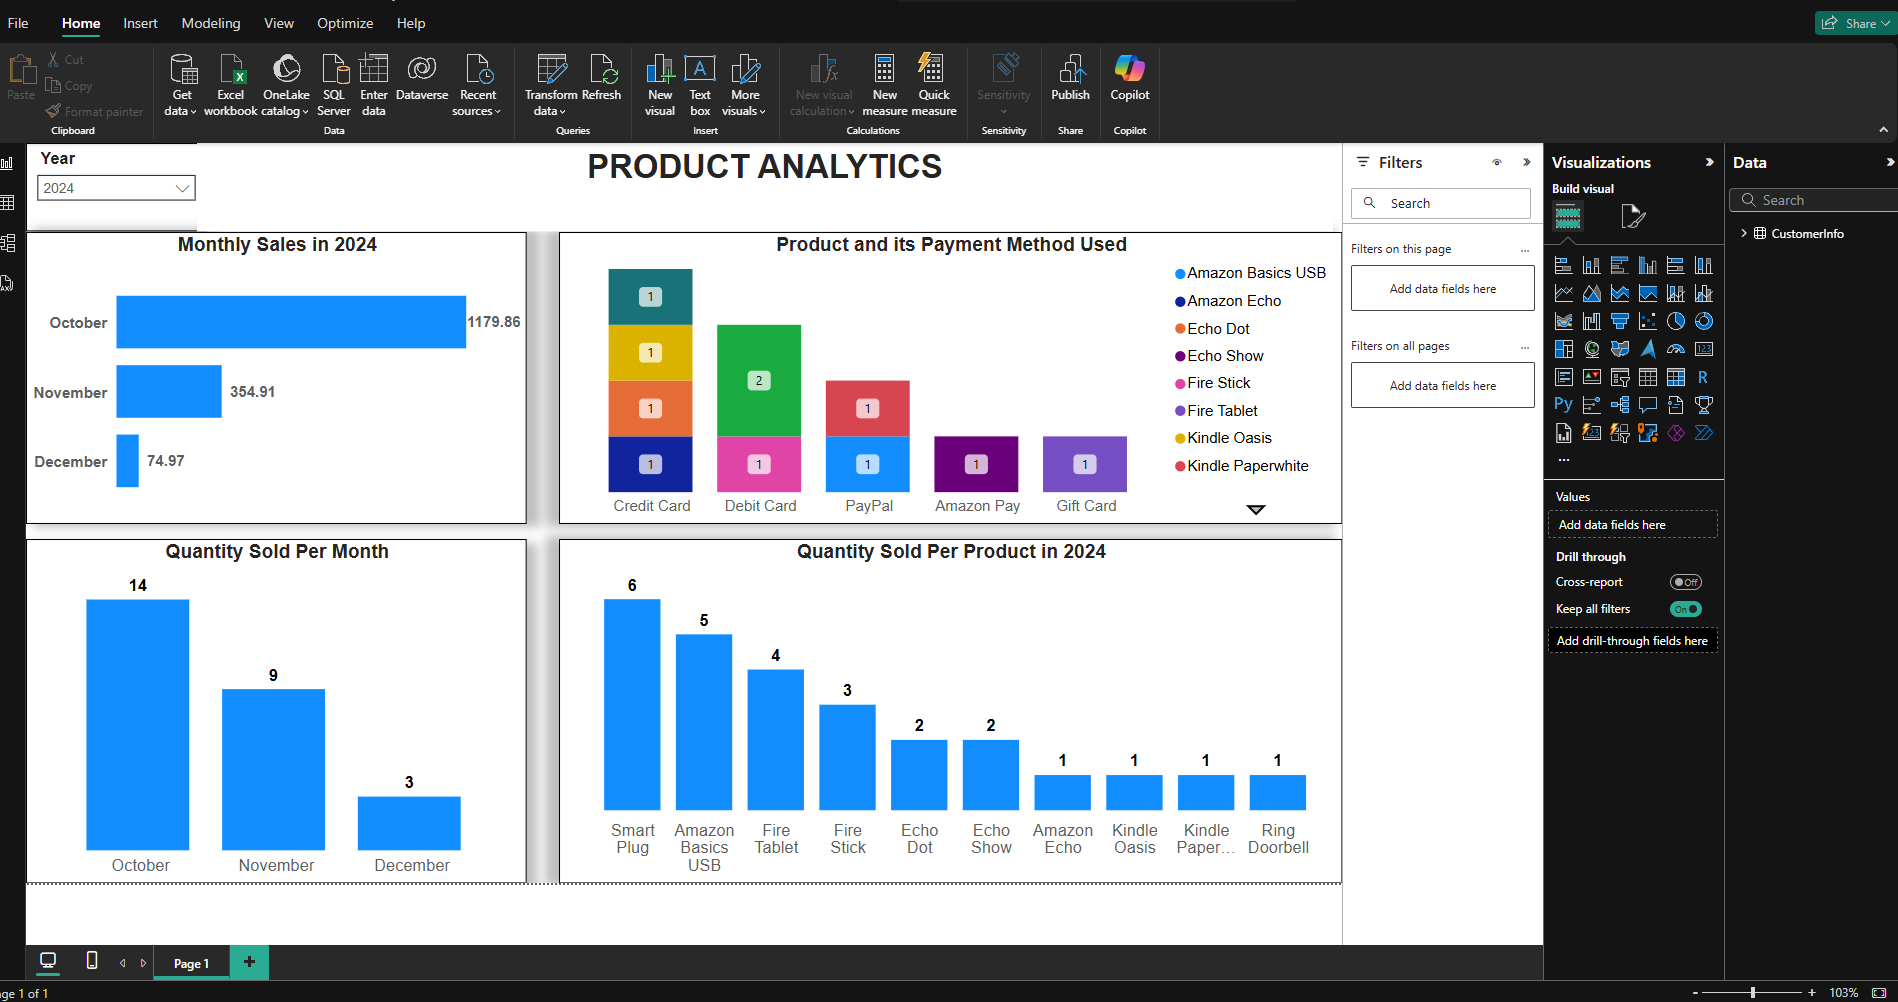

The page's visual inventory and layout, read from the dashboard file:
{"tool":"powerbi","page":{"name":"Page 1","canvas":[1280,720],"ordinal":0},"visuals":[{"type":"clusteredColumnChart","title":"Quantity Sold Per Month","fields":{"Category":["CustomerInfo.ConvertedDate.Variation.Date Hierarchy.Month"],"Y":["Sum(CustomerInfo.quantity_sold)"]},"box":[0,385.6,487.1,334.8],"z":0},{"type":"slicer","fields":{"Values":["CustomerInfo.ConvertedDate.Variation.Date Hierarchy.Year"]},"box":[0,0,175.6,86.4],"z":1000},{"type":"clusteredColumnChart","title":"Quantity Sold Per Product in 2024","fields":{"Category":["CustomerInfo.product_name"],"Y":["Sum(CustomerInfo.quantity_sold)"]},"box":[518.7,385.6,761.6,334.8],"z":2000},{"type":"lineStackedColumnComboChart","title":"Product and its Payment Method Used","fields":{"Category":["CustomerInfo.payment_method"],"Y":["CountNonNull(CustomerInfo.product_name)"],"Series":["CustomerInfo.product_name"]},"box":[518.7,86.4,761.6,284],"z":3000},{"type":"clusteredBarChart","title":"Monthly Sales in 2024","fields":{"Category":["CustomerInfo.ConvertedDate.Variation.Date Hierarchy.Month"],"Y":["Sum(CustomerInfo.sale_amount)"]},"box":[0,86.4,487.1,284],"z":3001},{"type":"textbox","box":[166,0,1104.6,86.4],"z":3002}]}

Visuals, with their boxes on the page's 1280x720 design canvas (x1, y1, x2, y2). These are canvas units, not pixel positions in the 1898x1002 screenshot, which may show the page scaled, cropped or inside an application window:
"Quantity Sold Per Month" clusteredColumnChart: (0,386,487,720)
slicer - CustomerInfo.ConvertedDate.Variation.Date Hierarchy.Year: (0,0,176,86)
"Quantity Sold Per Product in 2024" clusteredColumnChart: (519,386,1280,720)
"Product and its Payment Method Used" lineStackedColumnComboChart: (519,86,1280,370)
"Monthly Sales in 2024" clusteredBarChart: (0,86,487,370)
textbox: (166,0,1271,86)
